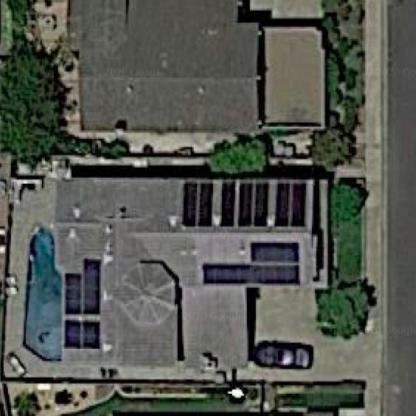car: (249, 333, 320, 372)
solar_panel: (175, 180, 313, 232), (192, 241, 314, 290), (58, 250, 107, 357)
swimming_pool: (13, 216, 64, 369)
